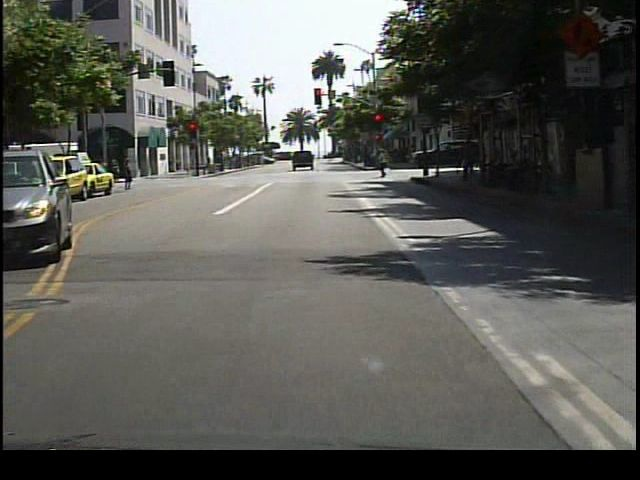person: (460, 138, 478, 180), (375, 148, 393, 180), (123, 157, 137, 192)
